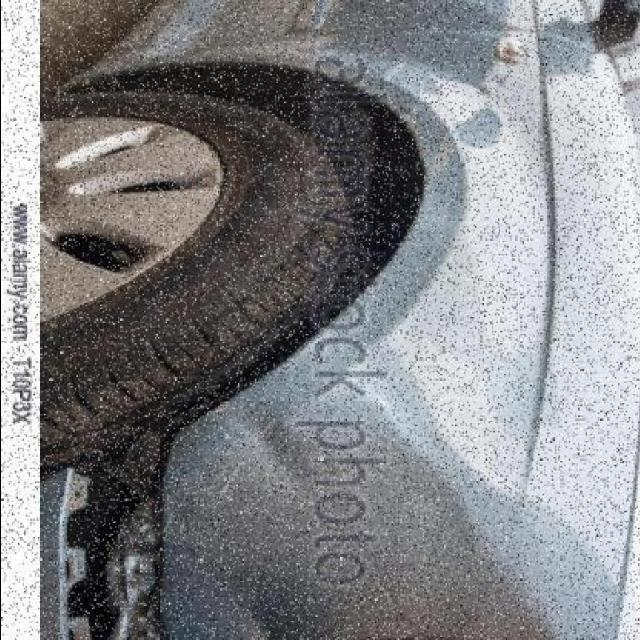fender-dent: (117, 31, 537, 640)
